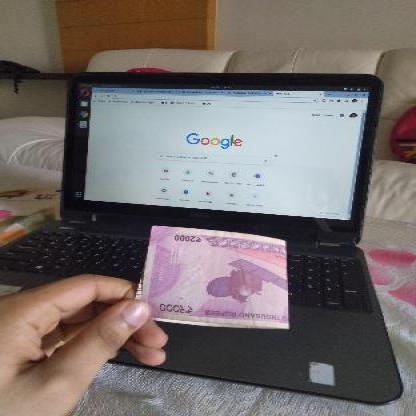New2000Back: (147, 226, 290, 326)
